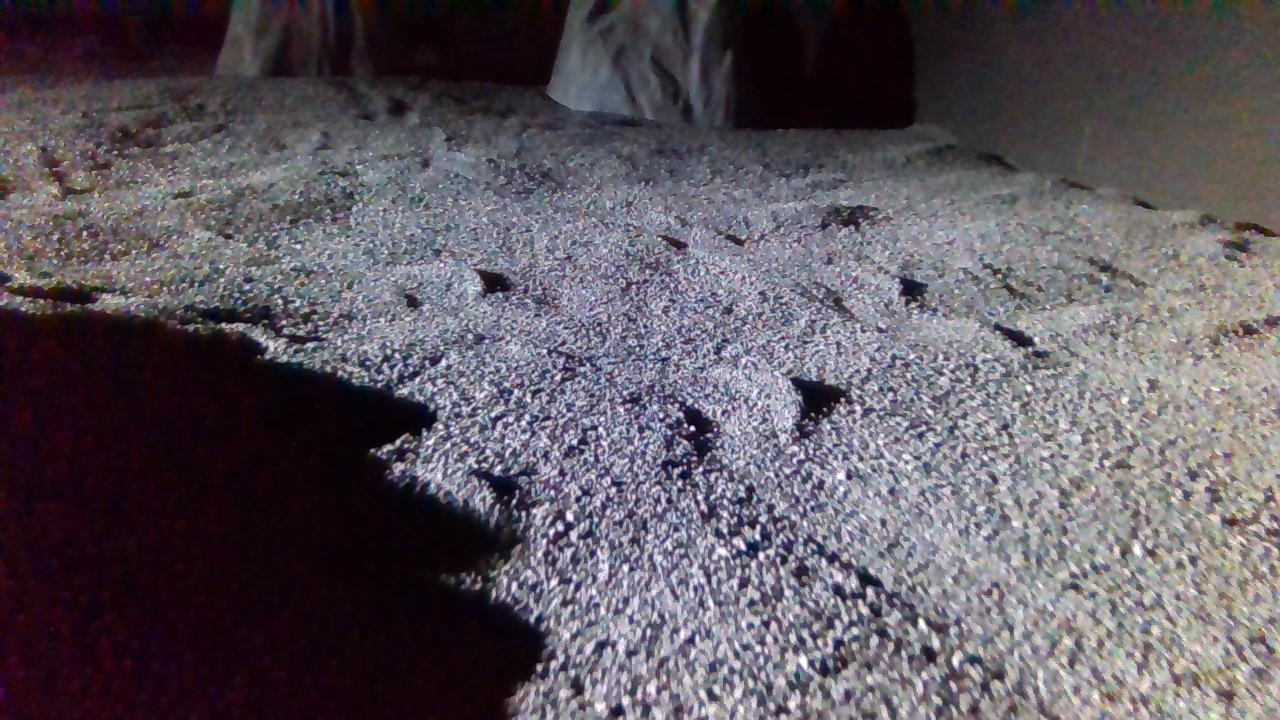rock: (547, 0, 734, 124), (215, 0, 372, 74)
